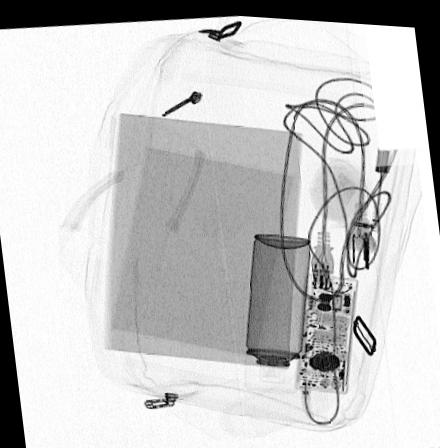Sprayer: (241, 230, 311, 391)
